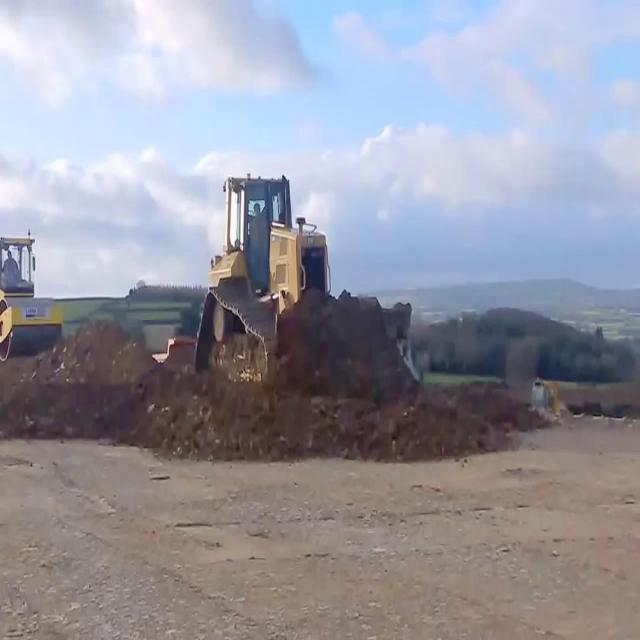buldozerpayloadergrader: (190, 172, 416, 402)
